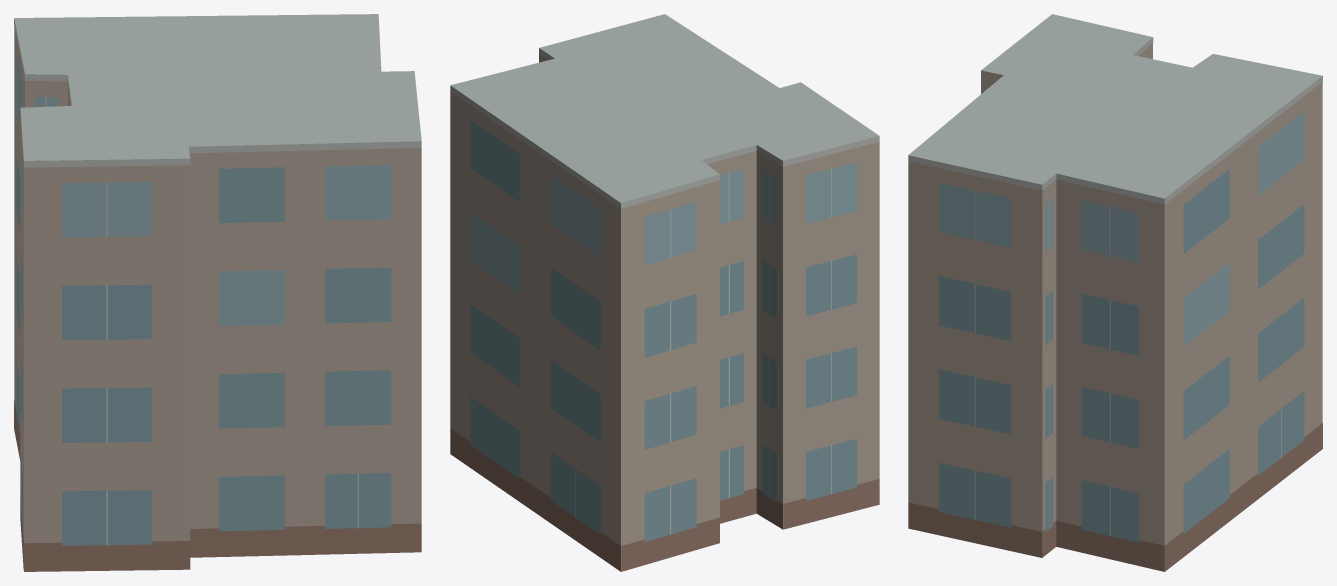
Rendered from survey-upis-32809154.glb.
The picture shows the model from 3 angles, left to right: view 1: azimuth 30°, elevation 25°; view 2: azimuth 150°, elevation 25°; view 3: azimuth 270°, elevation 25°; orthographic projection. The views are drawn at different scales.
Visible parts, largest first — view 1: survey-upis-32809154.tmp; view 2: survey-upis-32809154.tmp; view 3: survey-upis-32809154.tmp.
Boxes of the visible parts, box(x1,y1,x2,y2) form: survey-upis-32809154.tmp: box(14, 14, 421, 571); survey-upis-32809154.tmp: box(450, 14, 879, 571); survey-upis-32809154.tmp: box(908, 14, 1322, 571).
Size of the model in its own units: 16.2 by 15.26 by 15.37.
